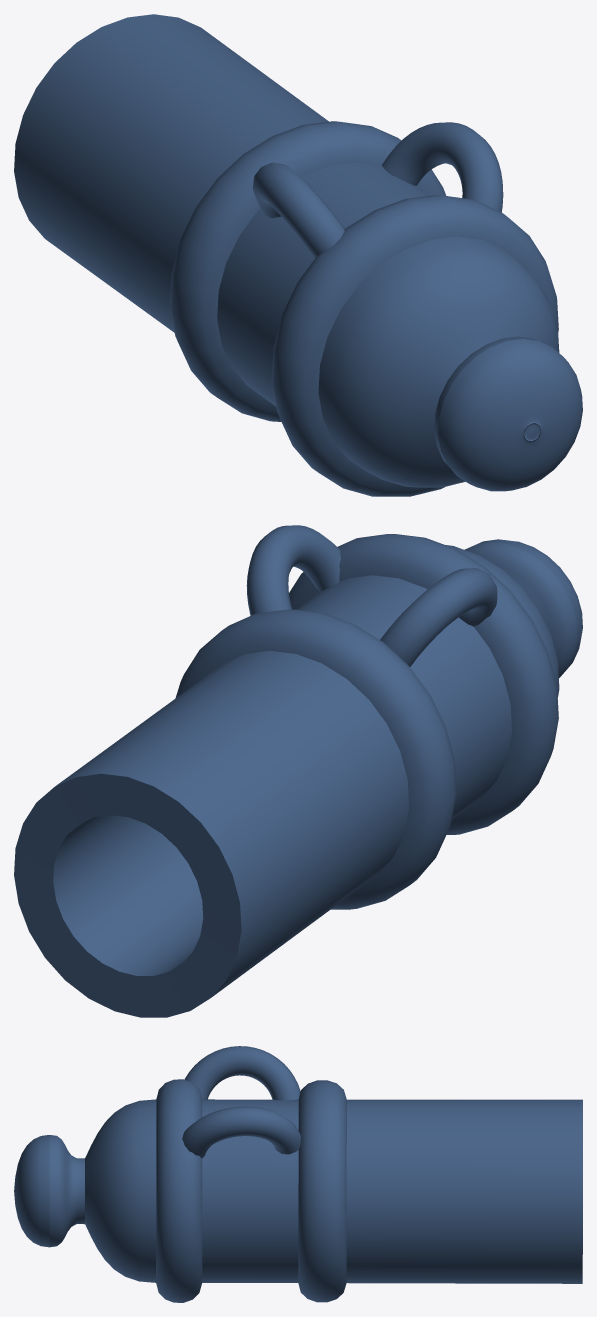
File: Gorilla.FBX
The picture shows the model from 3 angles, top to bottom: view 1: azimuth 30°, elevation 25°; view 2: azimuth 150°, elevation 25°; view 3: azimuth 270°, elevation 25°; orthographic projection. The views are drawn at different scales.
Parts seen in each view (by area): view 1: Gorilla; view 2: Gorilla; view 3: Gorilla.
Boxes of the visible parts, x1=… form: Gorilla: x1=14, y1=14, x2=582, y2=496; Gorilla: x1=14, y1=525, x2=582, y2=1017; Gorilla: x1=14, y1=1046, x2=582, y2=1302.
Bounding box in the file's own units: 27.93 × 29.68 × 71.07.
